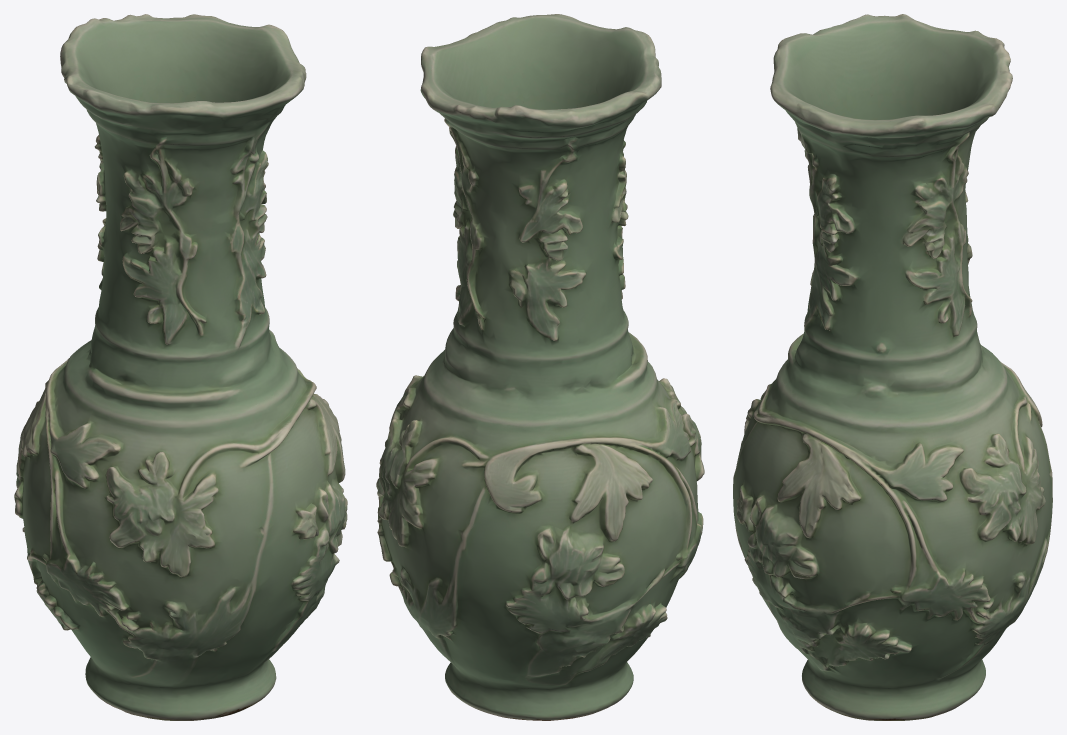
3 renders of one model, left to right at view 1: azimuth 30°, elevation 25°; view 2: azimuth 150°, elevation 25°; view 3: azimuth 270°, elevation 25°, orthographic.
Parts seen in each view (by area): view 1: tripo_node_95e2395d-b249-4121-9198-a0091711029b; view 2: tripo_node_95e2395d-b249-4121-9198-a0091711029b; view 3: tripo_node_95e2395d-b249-4121-9198-a0091711029b.
Part boxes in pixels (x1,y1,x2,y2): tripo_node_95e2395d-b249-4121-9198-a0091711029b: (14, 14, 347, 720); tripo_node_95e2395d-b249-4121-9198-a0091711029b: (376, 14, 704, 720); tripo_node_95e2395d-b249-4121-9198-a0091711029b: (733, 14, 1052, 720).
Bounding box in the file's own units: 0.4679 × 1 × 0.4647.
Materials: 1 (1 with a texture image).
